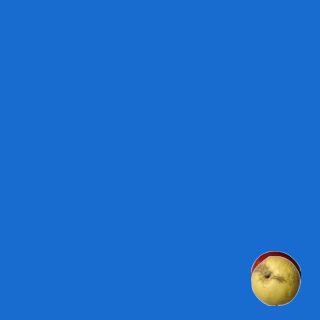Apple Braeburn: (250, 250, 300, 300)
Apple Golden 1: (250, 255, 300, 305)
